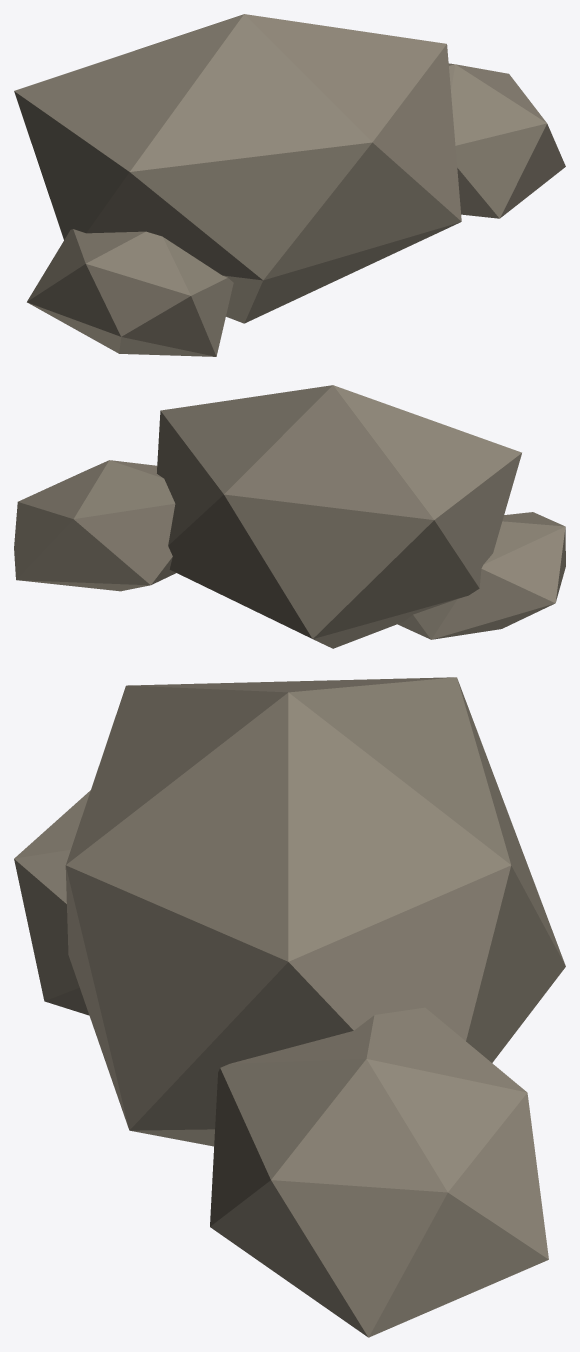
File: old_klim_rock_scatter_c.glb
The picture shows the model from 3 angles, top to bottom: view 1: azimuth 30°, elevation 25°; view 2: azimuth 150°, elevation 25°; view 3: azimuth 270°, elevation 25°; orthographic projection. The views are drawn at different scales.
Visible parts, largest first — view 1: old_klim_rock_scatter_c_old_klim_ash_beige_rock_ground_detai; view 2: old_klim_rock_scatter_c_old_klim_ash_beige_rock_ground_detai; view 3: old_klim_rock_scatter_c_old_klim_ash_beige_rock_ground_detai.
Boxes of the visible parts, x1,y1,x2,y2 form: old_klim_rock_scatter_c_old_klim_ash_beige_rock_ground_detai: (14,14,565,356); old_klim_rock_scatter_c_old_klim_ash_beige_rock_ground_detai: (14,385,565,648); old_klim_rock_scatter_c_old_klim_ash_beige_rock_ground_detai: (14,677,565,1337).
Size of the model in its own units: 1.65 by 0.8325 by 0.8897.
